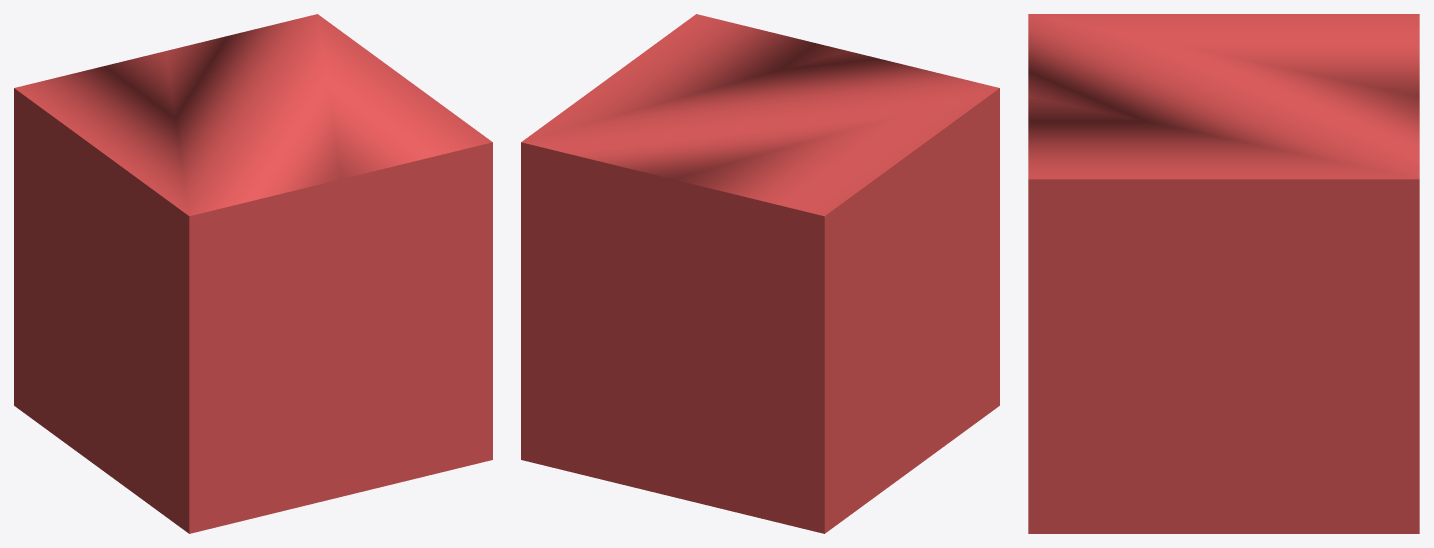
Rendered from smoke.plane.glb.
3 views of the same model, side by side, from view 1: azimuth 30°, elevation 25°; view 2: azimuth 150°, elevation 25°; view 3: azimuth 270°, elevation 25° (orthographic). The views are drawn at different scales.
Parts seen in each view (by area): view 1: part_001, part_000; view 2: part_001, part_000; view 3: part_000, part_001.
Part boxes in pixels (box(x1,y1,x2,y2)): part_001: box(14, 51, 340, 533); part_000: box(166, 14, 492, 496); part_001: box(673, 51, 999, 533); part_000: box(521, 14, 847, 496); part_000: box(1028, 96, 1419, 533); part_001: box(1028, 14, 1419, 96).
Size of the model in its own units: 2 by 2 by 2.
